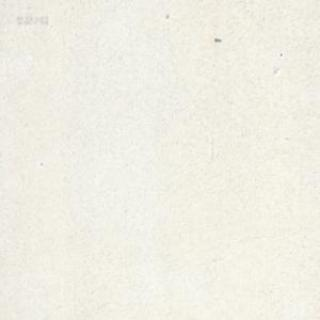Nailtrack_idkeyframe: (213, 36, 220, 41)
